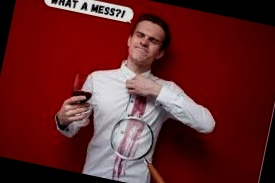wine: (117, 87, 150, 183), (109, 131, 133, 181)
